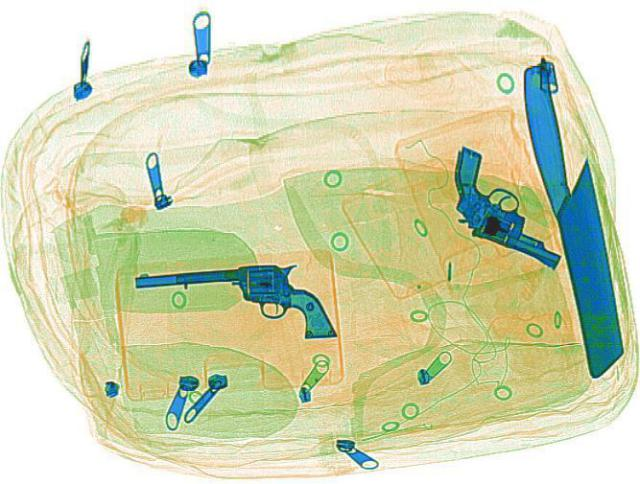Gun: (404, 143, 608, 267), (131, 258, 335, 347)
Knife: (514, 58, 628, 378)
